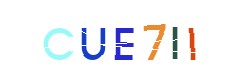7: (100, 0, 180, 80)
C: (16, 0, 96, 80)
E: (79, 0, 159, 80)
I: (127, 0, 207, 80), (134, 0, 214, 80)
U: (68, 0, 148, 80)
